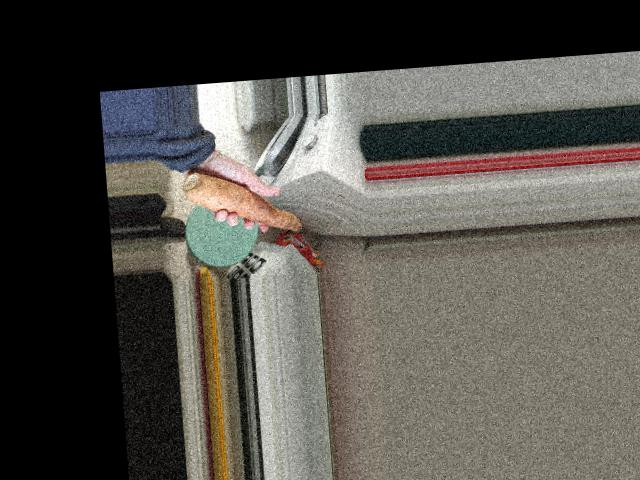sweet_potato: (179, 161, 311, 245)
